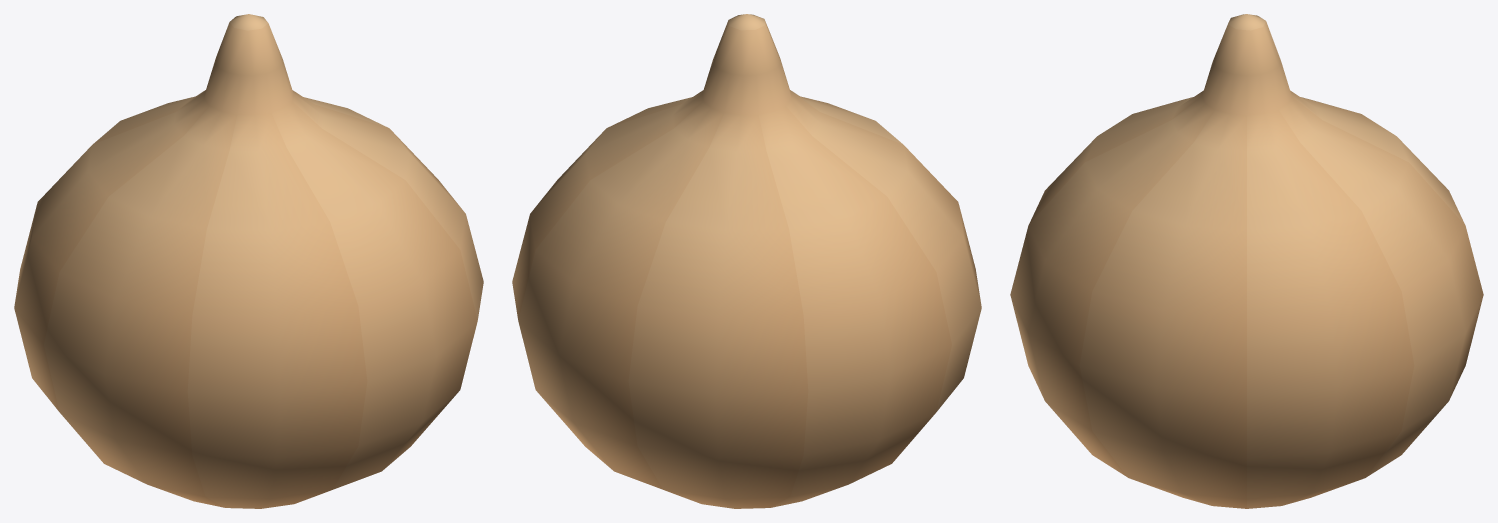
The model's file is ing_onion.glb.
3 renders of one model, left to right at view 1: azimuth 30°, elevation 25°; view 2: azimuth 150°, elevation 25°; view 3: azimuth 270°, elevation 25°, orthographic.
Parts seen in each view (by area): view 1: food_ingredient_onion_Sphere.022; view 2: food_ingredient_onion_Sphere.022; view 3: food_ingredient_onion_Sphere.022.
Boxes of the visible parts, left/top/right/bottom form: food_ingredient_onion_Sphere.022: left=14, top=14, right=483, bottom=508; food_ingredient_onion_Sphere.022: left=512, top=14, right=981, bottom=508; food_ingredient_onion_Sphere.022: left=1010, top=14, right=1483, bottom=508.
Size of the model in its own units: 0.75 by 0.8624 by 0.75.
1 material, 1 textured.
